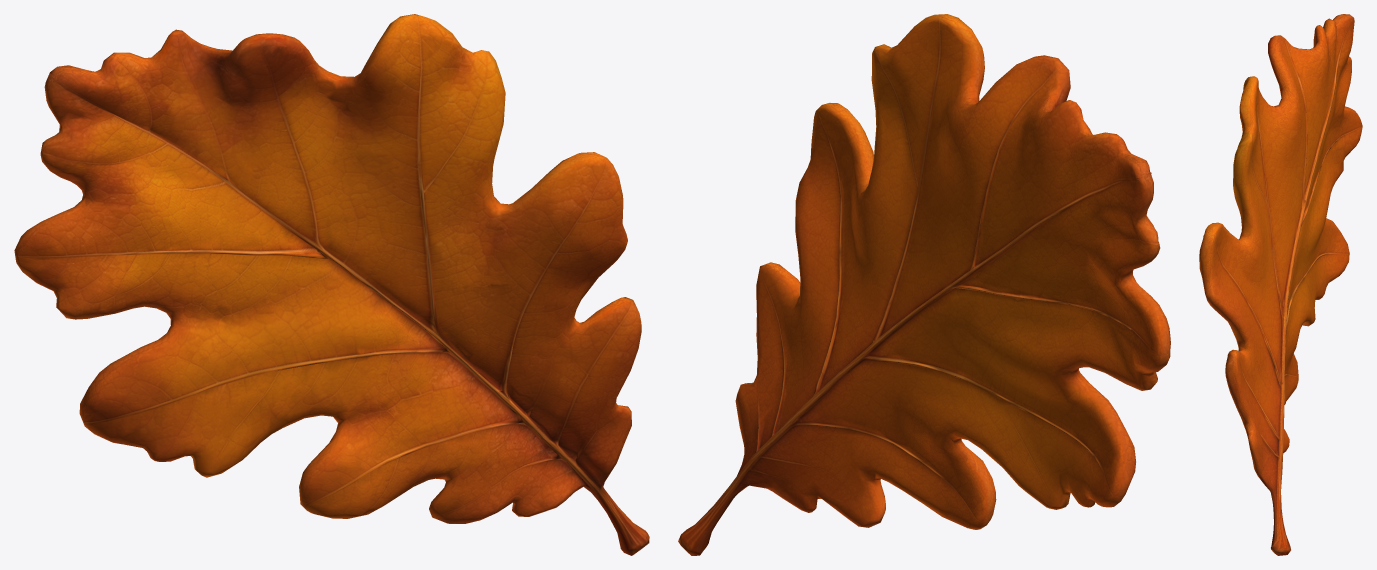
Rendered from source_2.glb.
The picture shows the model from 3 angles, left to right: view 1: azimuth 30°, elevation 25°; view 2: azimuth 150°, elevation 25°; view 3: azimuth 270°, elevation 25°; orthographic projection. The views are drawn at different scales.
Visible parts, largest first — view 1: tripo_node_80082216-13d8-423a-aaac-c45b3eda42d9; view 2: tripo_node_80082216-13d8-423a-aaac-c45b3eda42d9; view 3: tripo_node_80082216-13d8-423a-aaac-c45b3eda42d9.
Part boxes in pixels (x1,y1,x2,y2): tripo_node_80082216-13d8-423a-aaac-c45b3eda42d9: [14, 14, 649, 555]; tripo_node_80082216-13d8-423a-aaac-c45b3eda42d9: [678, 14, 1170, 555]; tripo_node_80082216-13d8-423a-aaac-c45b3eda42d9: [1199, 14, 1362, 555].
Bounding box in the file's own units: 0.9592 × 0.9802 × 0.3624.
1 material, 1 textured.
